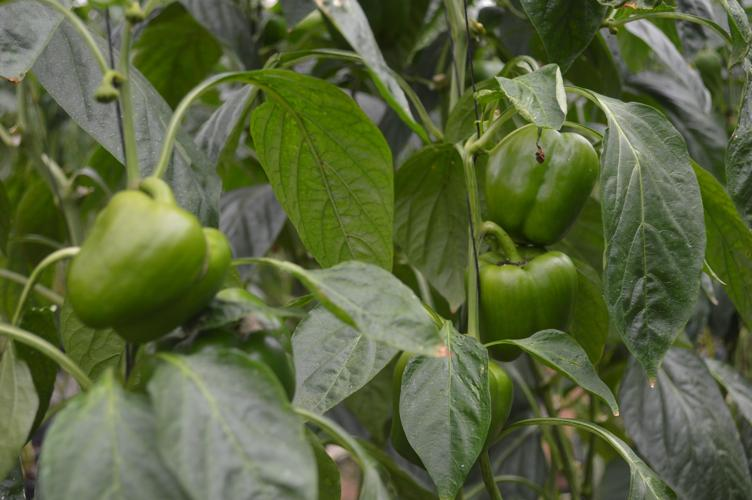BellPepper: (61, 198, 237, 348), (384, 344, 520, 471), (473, 117, 602, 248), (467, 255, 601, 371)
